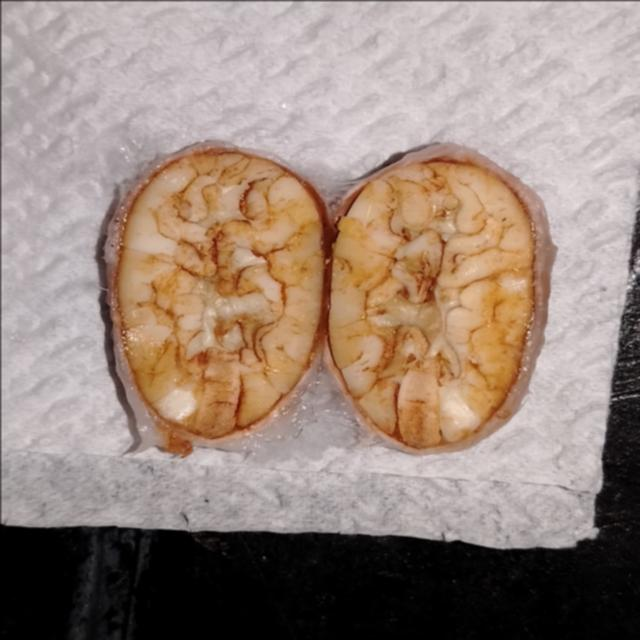Criollo: (114, 146, 320, 438), (327, 155, 532, 440)
